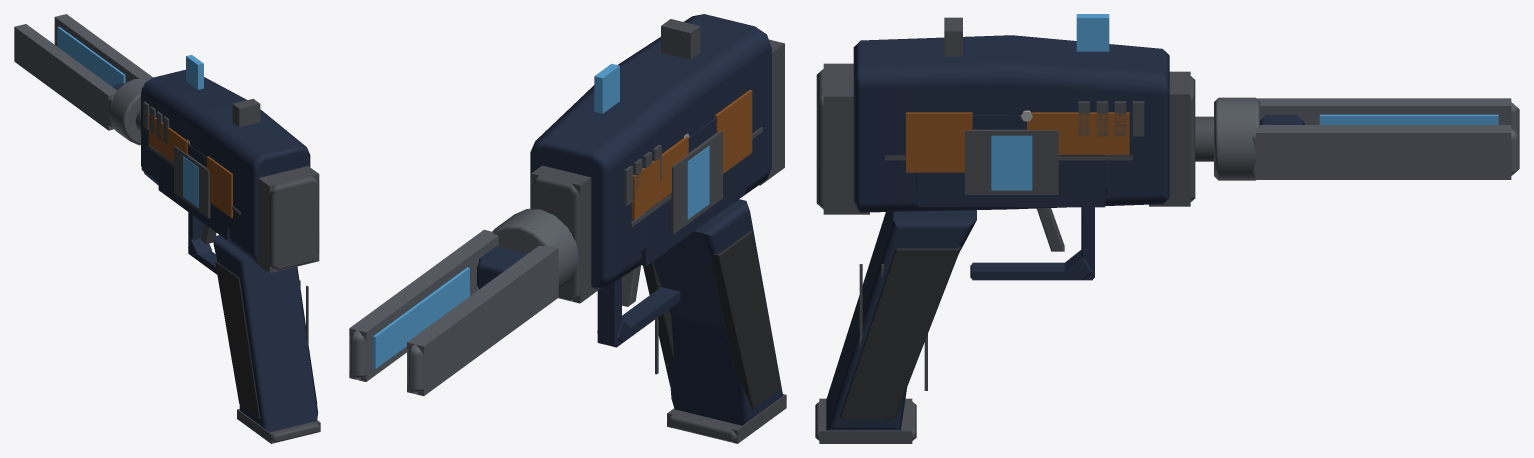
Rendered from stun.glb.
3 renders of one model, left to right at view 1: azimuth 30°, elevation 25°; view 2: azimuth 150°, elevation 25°; view 3: azimuth 270°, elevation 25°, orthographic. The views are drawn at different scales.
Parts seen in each view (by area): view 1: L0, L1; view 2: L0, L1; view 3: L0, L1.
Part boxes in pixels (box(x1,y1,x2,y2)): L0: box(14, 15, 320, 442); L1: box(14, 14, 320, 443); L0: box(349, 14, 786, 442); L1: box(349, 39, 786, 443); L0: box(815, 14, 1519, 440); L1: box(819, 63, 1511, 443).
Size of the model in its own units: 0.046 by 0.1955 by 0.3032.
